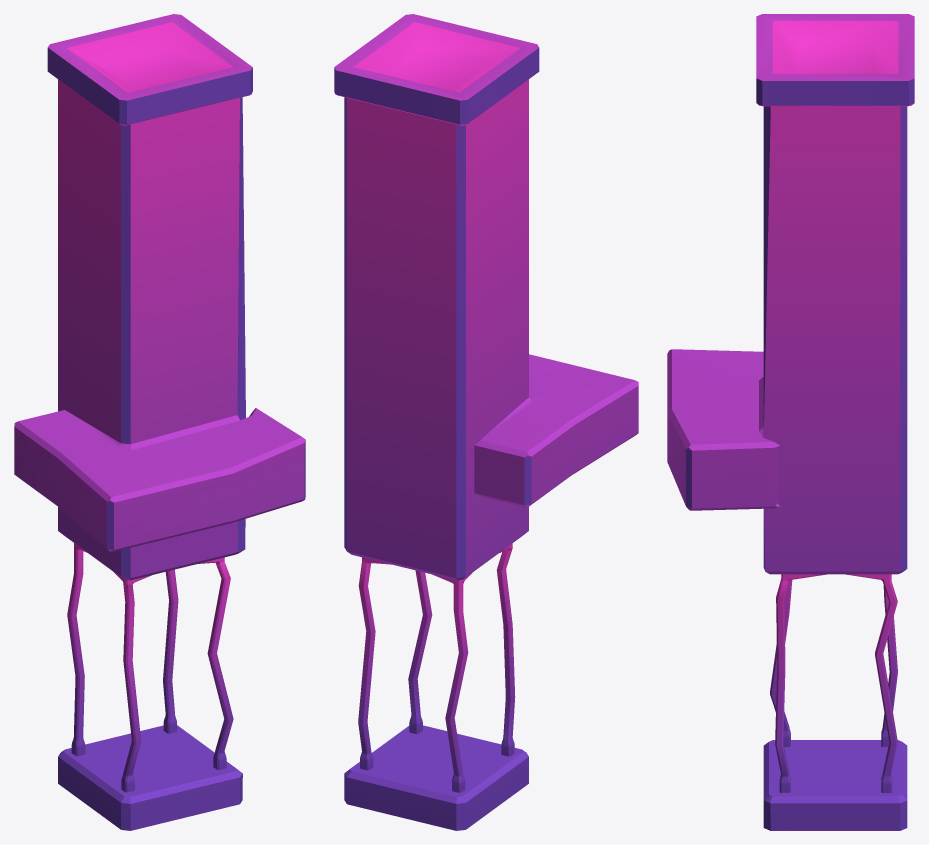
The model's file is building1add.fbx.
3 views of the same model, side by side, from view 1: azimuth 30°, elevation 25°; view 2: azimuth 150°, elevation 25°; view 3: azimuth 270°, elevation 25° (orthographic). The views are drawn at different scales.
Parts seen in each view (by area): view 1: main_Build1, s_2, s_4, s_1, s_3; view 2: main_Build1, s_1, s_3, s_2, s_4; view 3: main_Build1, s_3, s_4, s_1, s_2.
Boxes of the visible parts, bbox=[...] form: main_Build1: bbox=[14, 14, 305, 830]; s_2: bbox=[114, 572, 151, 792]; s_4: bbox=[198, 557, 233, 769]; s_1: bbox=[67, 543, 87, 756]; s_3: bbox=[163, 569, 178, 733]; main_Build1: bbox=[334, 14, 638, 830]; s_1: bbox=[432, 572, 472, 792]; s_3: bbox=[358, 557, 390, 770]; s_2: bbox=[496, 543, 515, 756]; s_4: bbox=[408, 570, 432, 734]; main_Build1: bbox=[667, 14, 914, 830]; s_3: bbox=[845, 574, 897, 792]; s_4: bbox=[775, 574, 826, 792]; s_1: bbox=[881, 574, 897, 747]; s_2: bbox=[770, 580, 792, 747].
Size of the model in its own units: 85.61 by 289 by 86.
